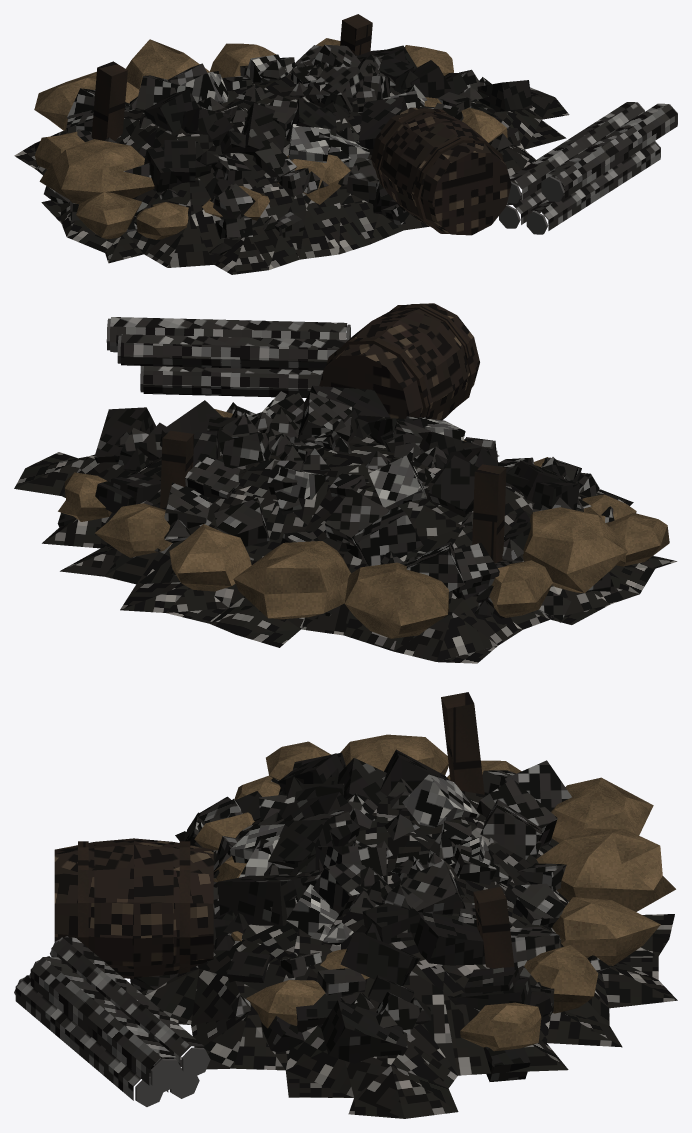
File: AraHut09a.glb
3 views of the same model, one above another, from view 1: azimuth 30°, elevation 25°; view 2: azimuth 150°, elevation 25°; view 3: azimuth 270°, elevation 25° (orthographic). The views are drawn at different scales.
Visible parts, largest first — view 1: AraHut09a_char; view 2: AraHut09a_char; view 3: AraHut09a_char.
Boxes of the visible parts, x1,y1,x2,y2 form: AraHut09a_char: (14,14,677,274); AraHut09a_char: (14,303,677,663); AraHut09a_char: (14,692,677,1118).
Size of the model in its own units: 4.58 by 1.06 by 3.76.
Materials: 9 (8 with a texture image).
